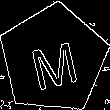M_N: (26, 29, 81, 89)
